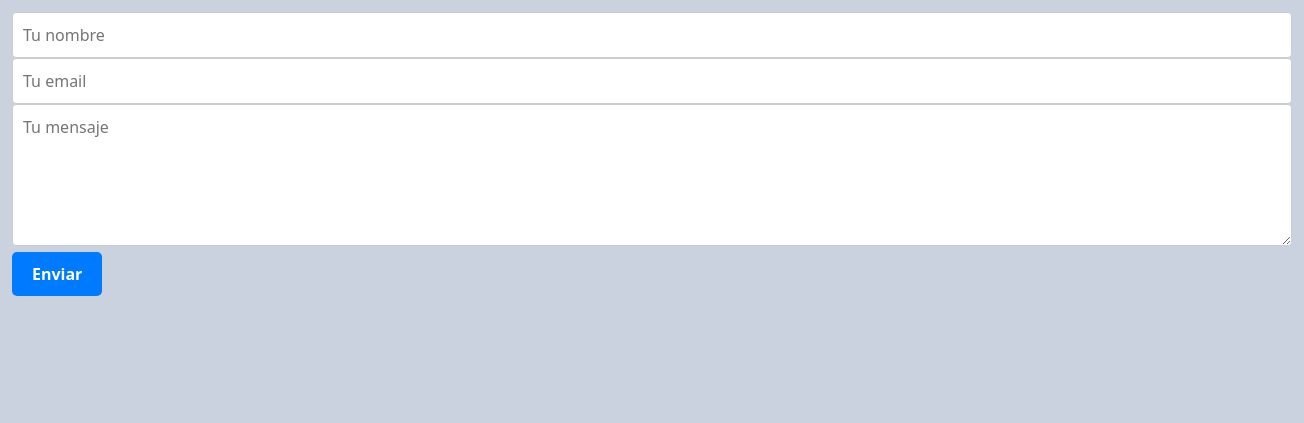
Scenario: Formulario component › muestra error de email inválido
The image size is (1304, 423).
Step 1. Type "correo-invalido" into the field with placeholder "Tu email" → [652, 81], box [12,58,1292,104]
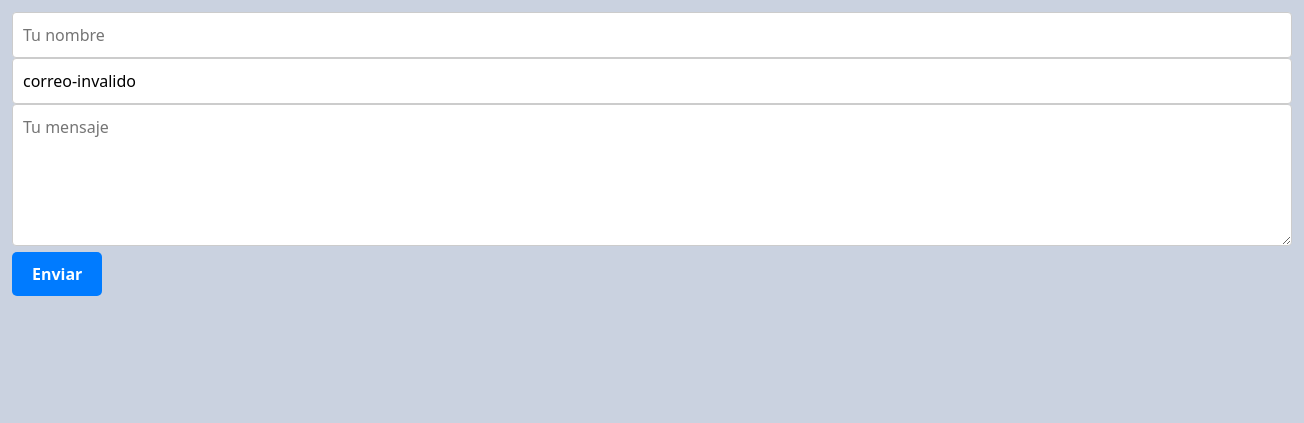
Step 2. Click the button "Enviar" → [57, 274], box [12,252,102,296]
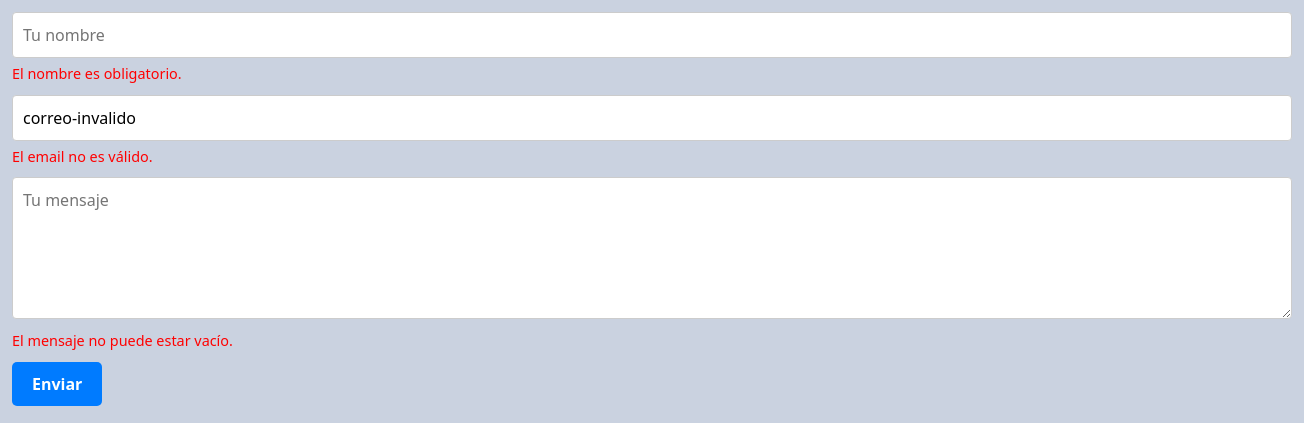
Expected: the text "El email no es válido." is shown, [12,147,153,166]
